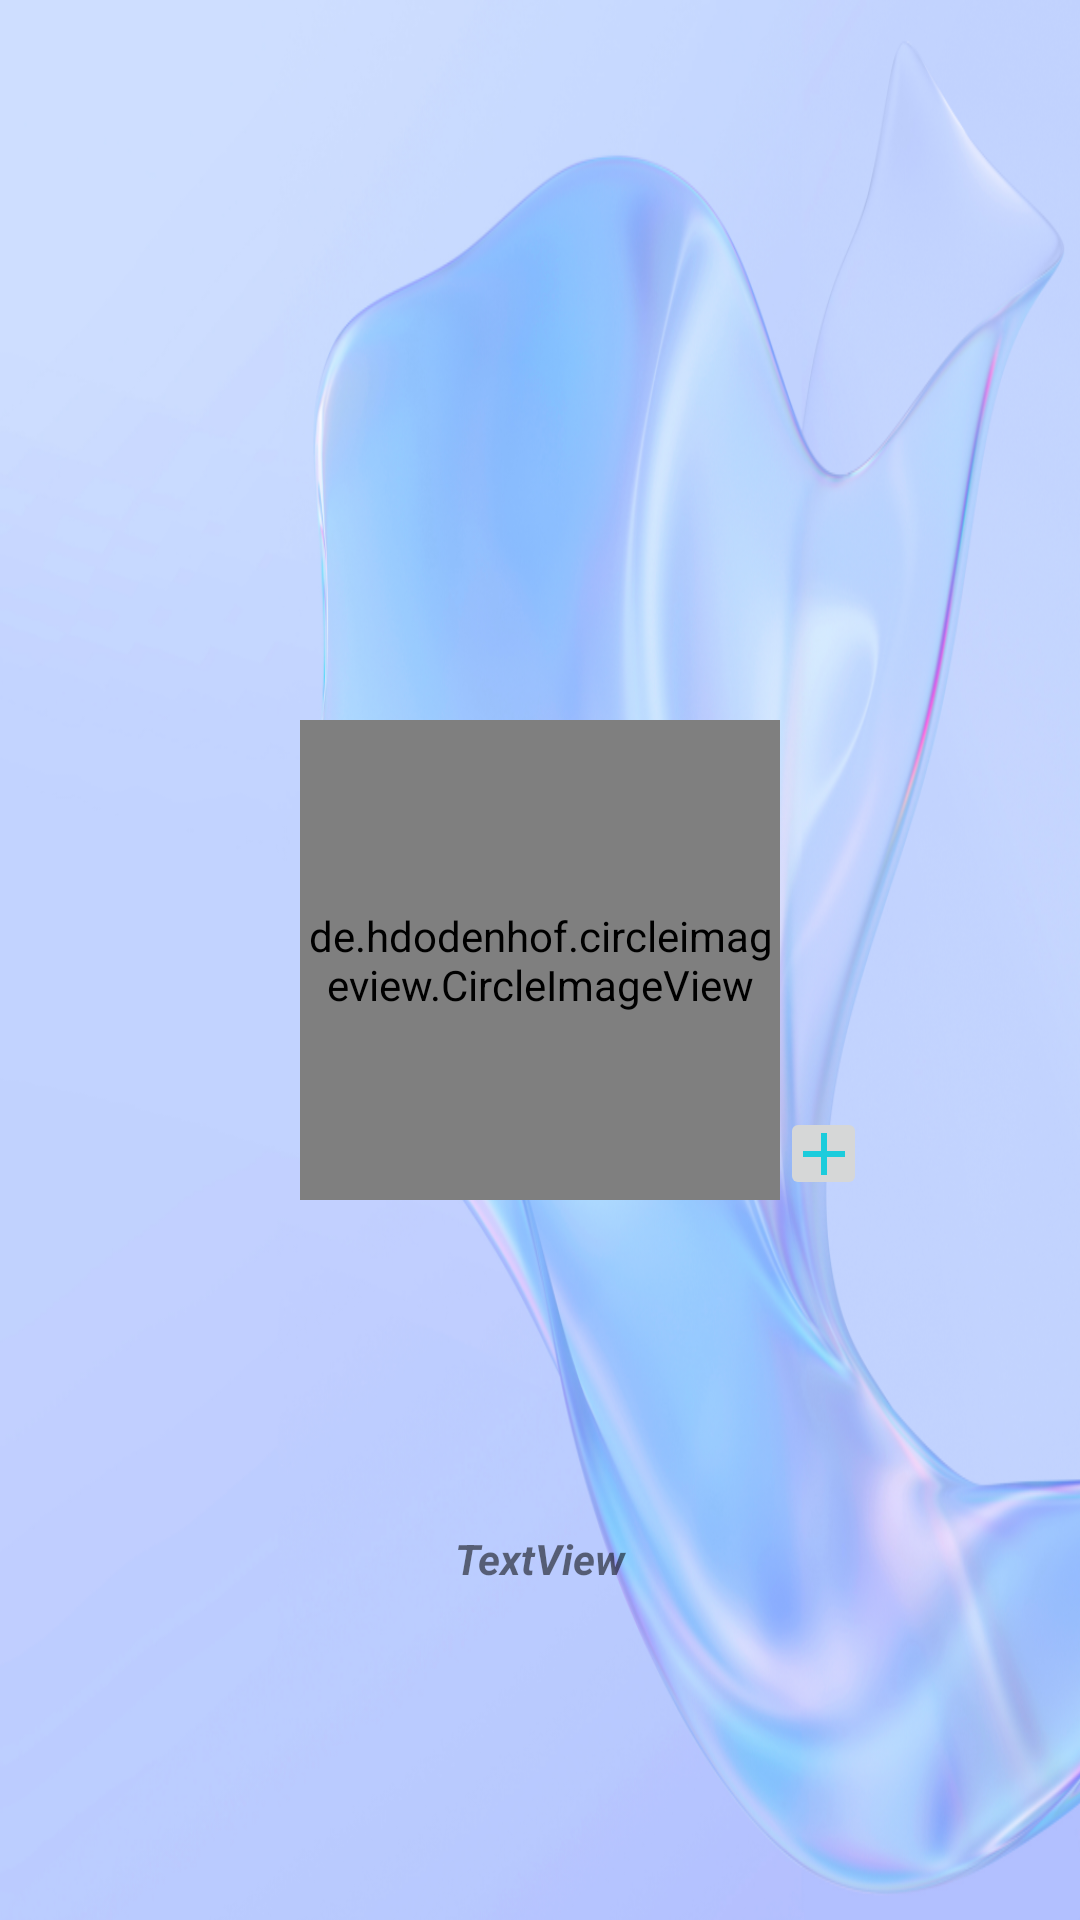

Named icons in this screenshot (1080 × 1920) and their centers, (x=x, y=y):
add: (x=823, y=1153)
